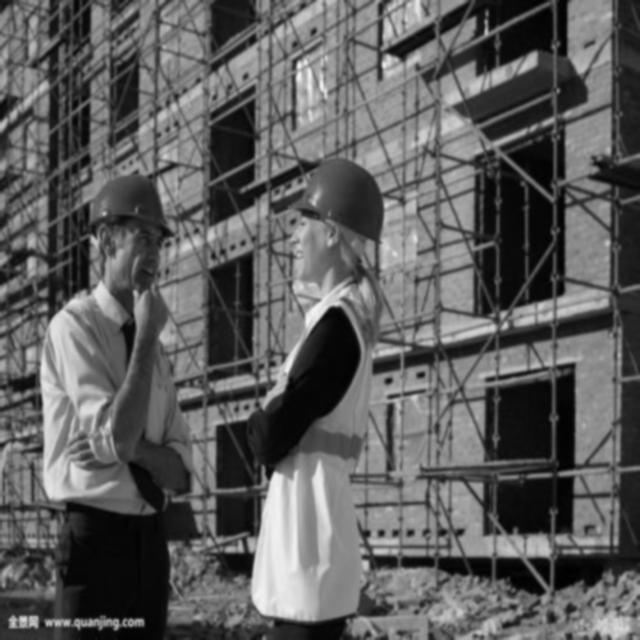head: (286, 143, 392, 299), (83, 162, 179, 304)
